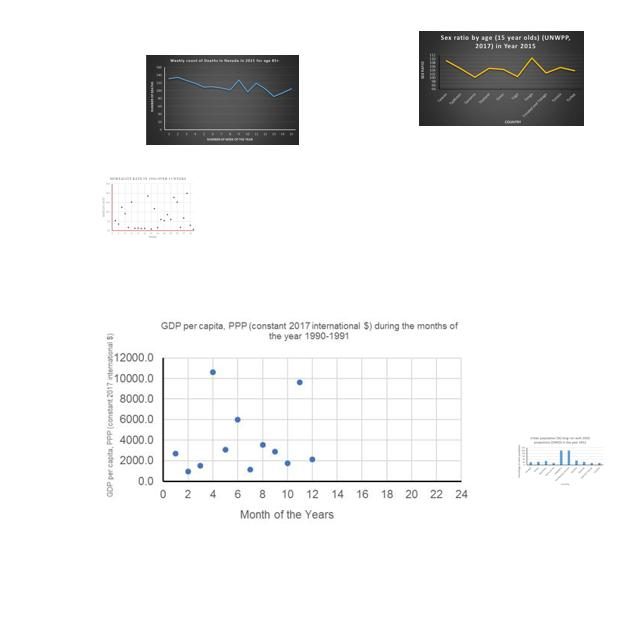Graph: (100, 306, 471, 526), (419, 31, 584, 126), (146, 55, 299, 145), (102, 176, 196, 241), (517, 435, 604, 488)
